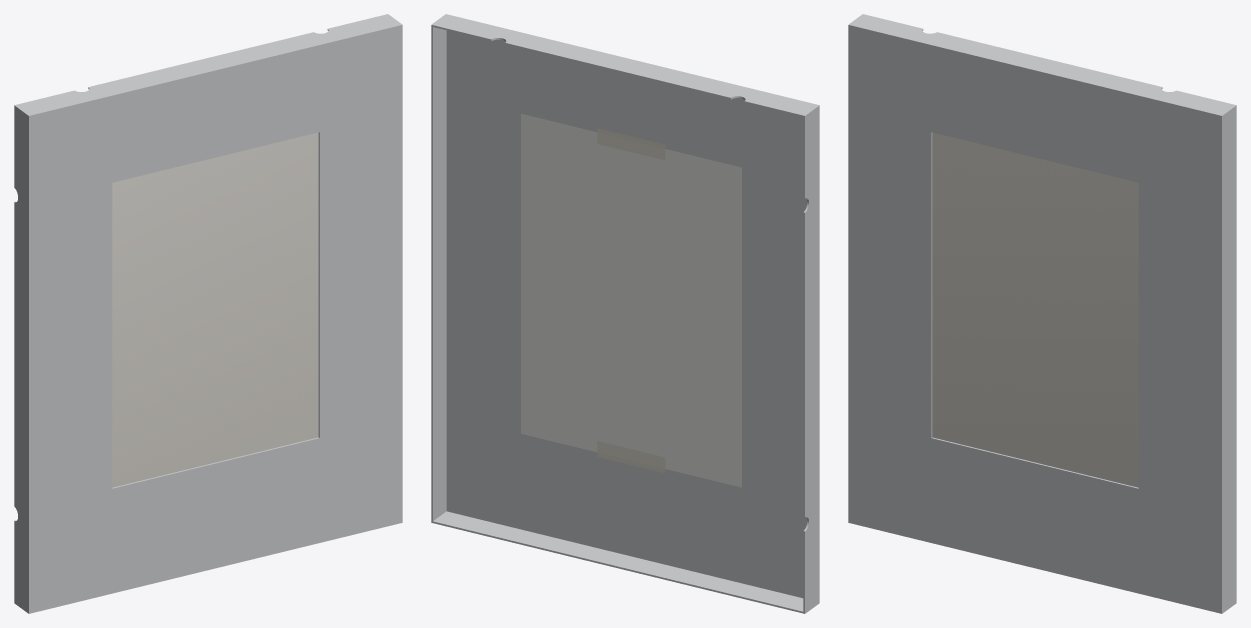
3 renders of one model, left to right at view 1: azimuth 30°, elevation 25°; view 2: azimuth 150°, elevation 25°; view 3: azimuth 330°, elevation 25°, orthographic.
Parts seen in each view (by area): view 1: Lintel 13×18; view 2: Lintel 13×18; view 3: Lintel 13×18.
Part boxes in pixels (<box>): Lintel 13×18: <box>14,14,402,613</box>; Lintel 13×18: <box>431,14,819,613</box>; Lintel 13×18: <box>848,14,1236,613</box>.
Size of the model in its own units: 0.22 by 0.28 by 0.015.
5 materials, 1 textured.
